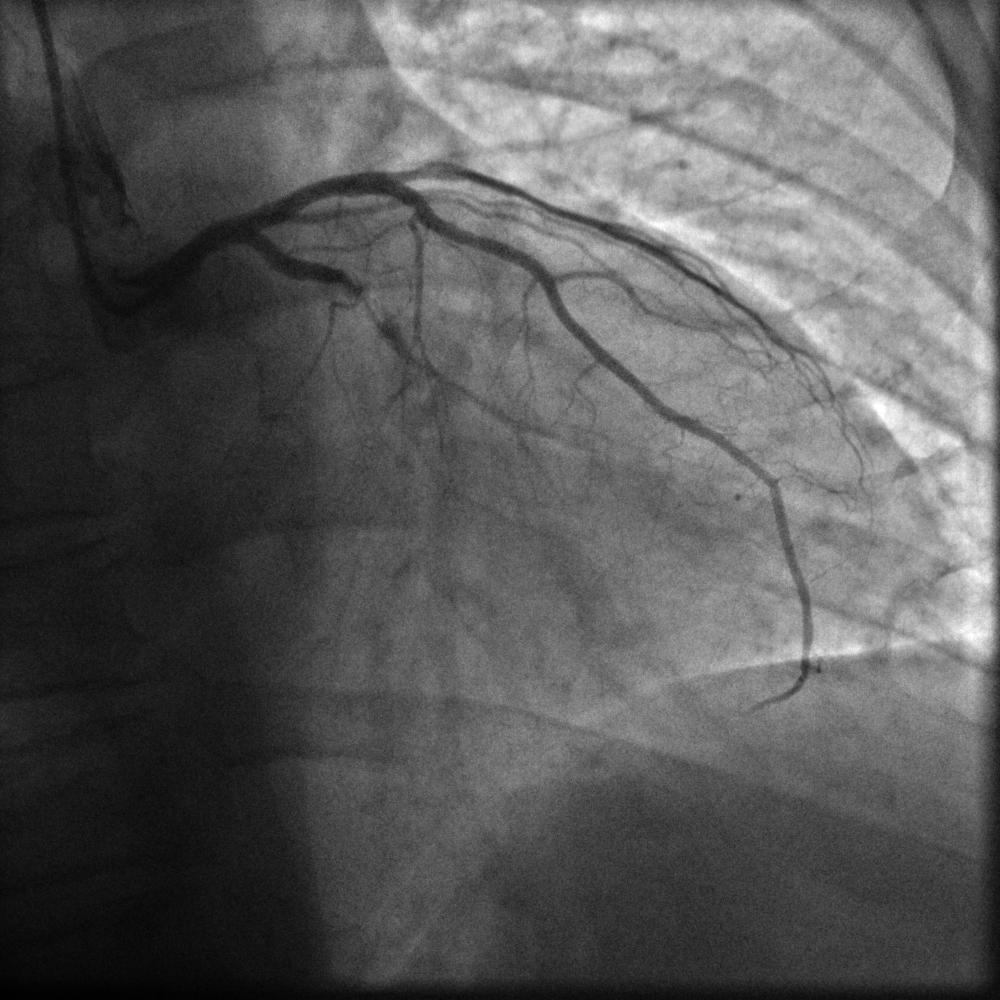Stenosis: (340, 270, 390, 325)
